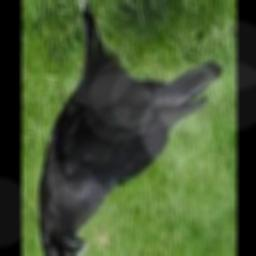Crow: (38, 7, 223, 256)
